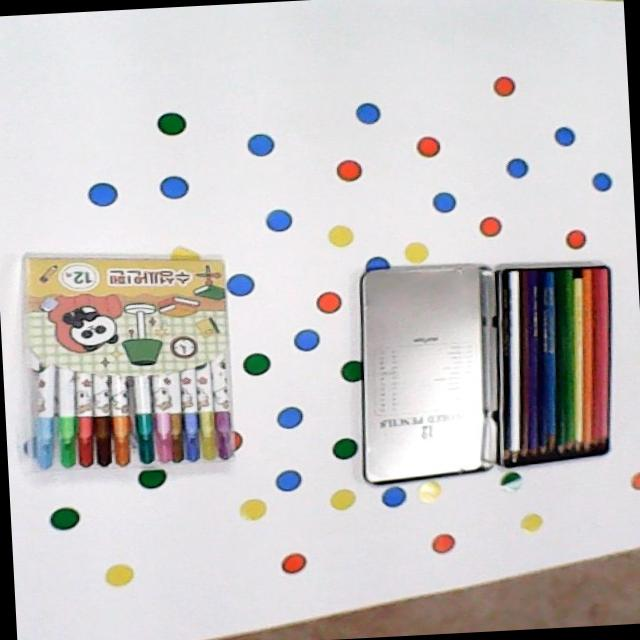color: (484, 260, 617, 472)
signpen: (12, 244, 240, 483)
